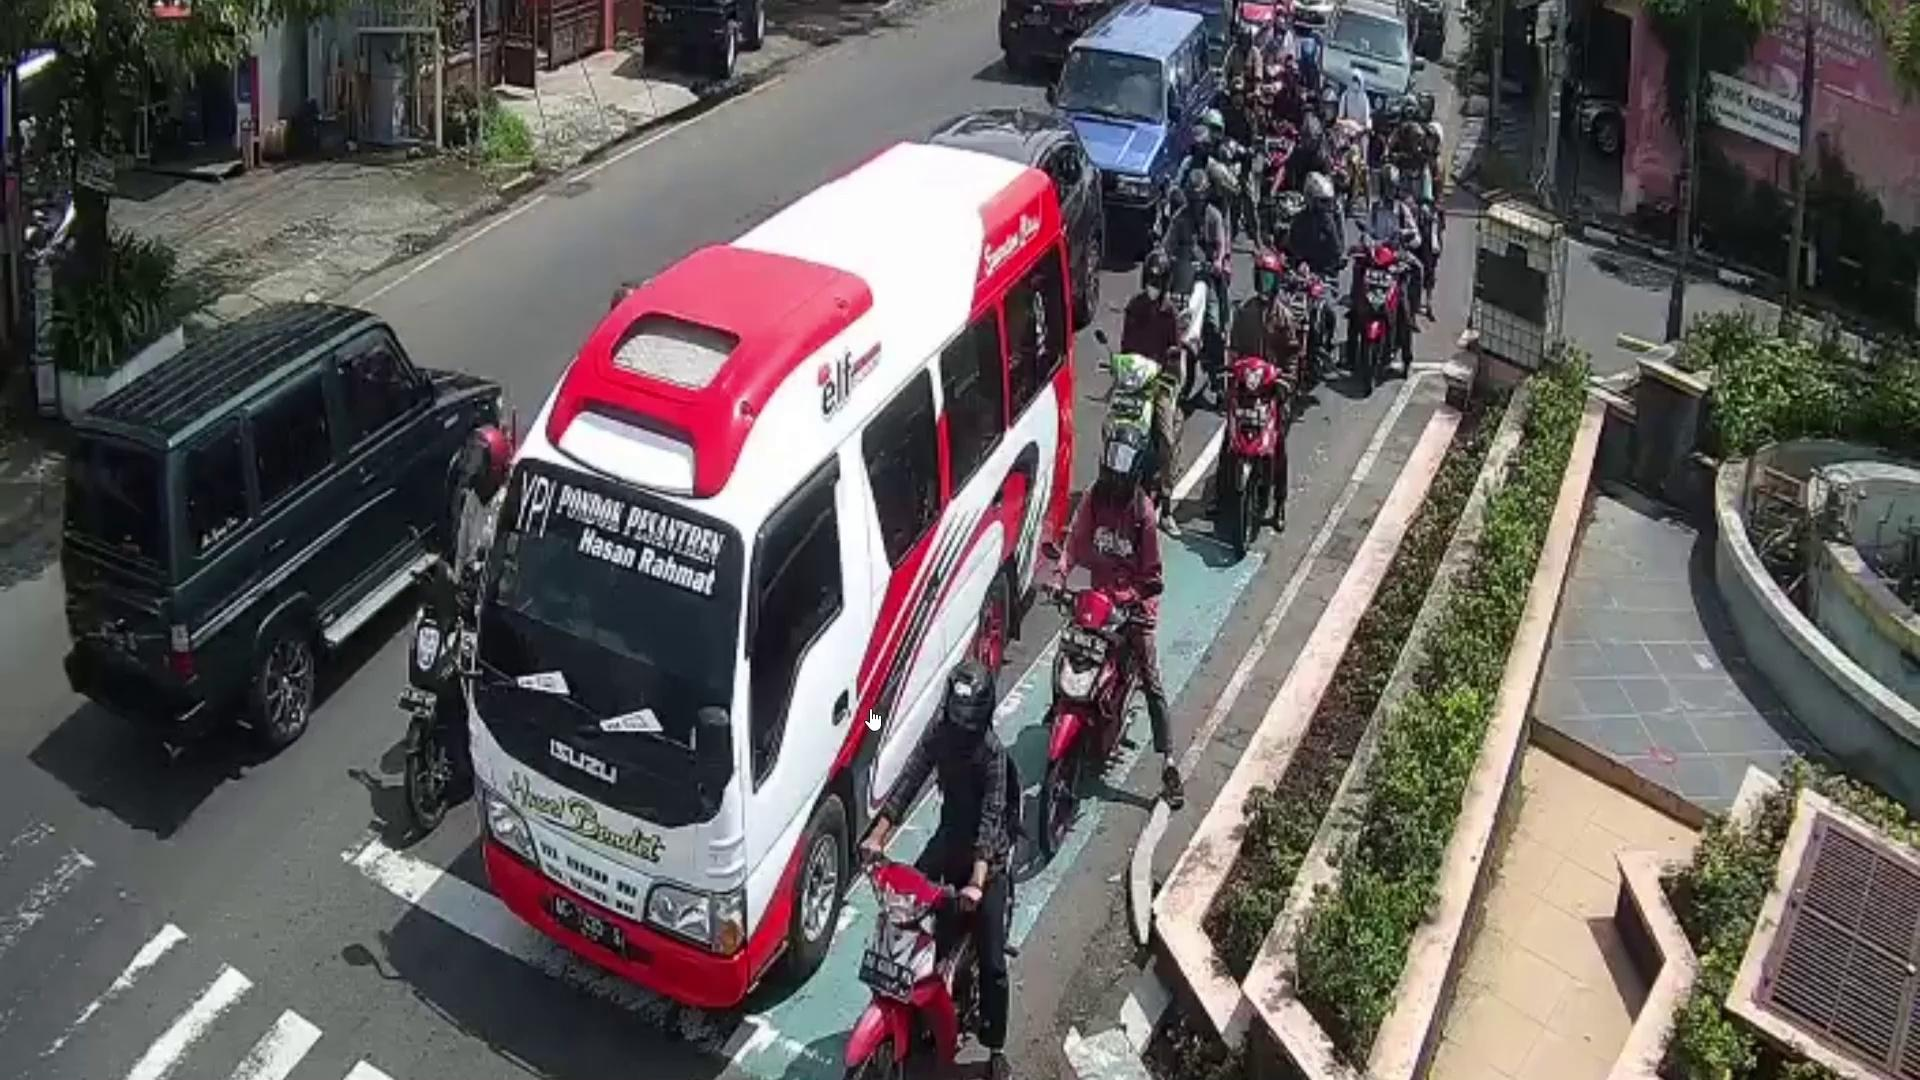bus: (471, 138, 1073, 1002)
car: (63, 291, 505, 748), (1052, 0, 1221, 244), (938, 105, 1110, 310), (1316, 0, 1424, 158)
motorbike: (856, 847, 997, 1080), (1047, 585, 1138, 848), (401, 580, 477, 829), (1089, 353, 1170, 526), (1228, 365, 1280, 555), (1354, 241, 1402, 384)
